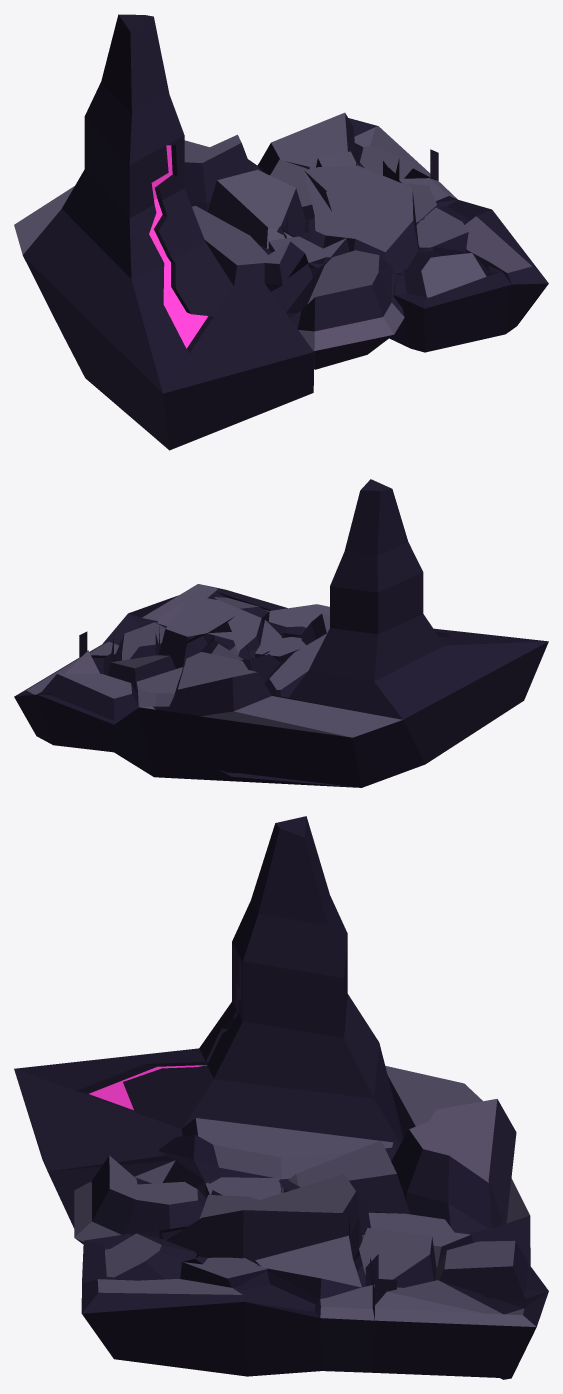
File: Mine_Rocher_Sol02.fbx
3 views of the same model, one above another, from view 1: azimuth 30°, elevation 25°; view 2: azimuth 150°, elevation 25°; view 3: azimuth 270°, elevation 25° (orthographic). The views are drawn at different scales.
Visible parts, largest first — view 1: Mur_pierre_rien.004; view 2: Mur_pierre_rien.004; view 3: Mur_pierre_rien.004.
Boxes of the visible parts, bbox=[...] form: Mur_pierre_rien.004: bbox=[14, 14, 548, 450]; Mur_pierre_rien.004: bbox=[14, 479, 548, 787]; Mur_pierre_rien.004: bbox=[14, 816, 548, 1379].
Bounding box in the file's own units: 345 × 255 × 316.
